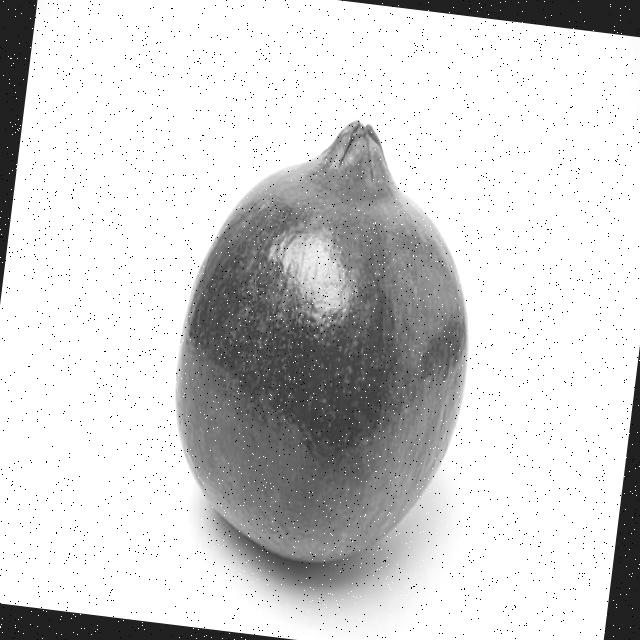Ripe: (148, 96, 502, 591)
